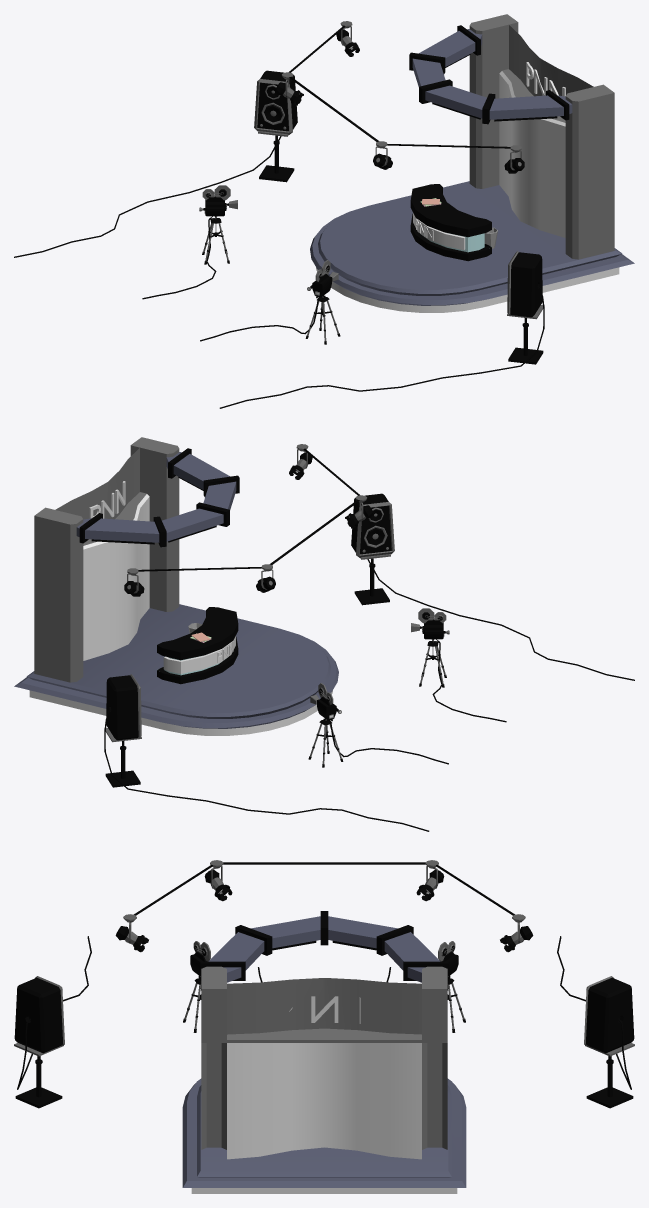
The model's file is Props.fbx.
3 views of the same model, one above another, from view 1: azimuth 30°, elevation 25°; view 2: azimuth 150°, elevation 25°; view 3: azimuth 270°, elevation 25° (orthographic). The views are drawn at different scales.
Visible parts, largest first — view 1: Podest Emission, Plane.007, TVScreen, Lights, Speaker grey parts, Desk, Speaker_base, Camera, camera_cable.001, Circle, Reflector, Reflector.001 (+1 smaller); view 2: Podest Emission, Plane.007, TVScreen, Lights, Speaker grey parts, Desk, Speaker_base, Camera, camera_cable.001, Circle, Reflector, Reflector.001 (+1 smaller); view 3: TVScreen, Plane.007, Podest Emission, Lights, Speaker grey parts, Speaker_base, Reflector, Reflector.001, Camera, camera_cable.001, cable_up, Circle (+1 smaller).
Boxes of the visible parts, x1,y1,x2,y2 form: Podest Emission: [310, 181, 634, 312]; Plane.007: [469, 14, 614, 259]; TVScreen: [499, 74, 565, 237]; Lights: [409, 25, 572, 124]; Speaker grey parts: [254, 70, 542, 317]; Desk: [410, 184, 491, 261]; Speaker_base: [258, 131, 544, 364]; Camera: [199, 185, 338, 297]; camera_cable.001: [14, 136, 544, 408]; Circle: [202, 216, 340, 344]; Reflector: [275, 72, 392, 169]; Reflector.001: [336, 21, 524, 173]; Podest Emission: [14, 604, 338, 735]; Plane.007: [34, 437, 179, 682]; TVScreen: [83, 497, 149, 660]; Lights: [76, 448, 239, 547]; Speaker grey parts: [106, 493, 394, 740]; Desk: [157, 607, 238, 684]; Speaker_base: [104, 554, 390, 787]; Camera: [310, 608, 449, 720]; camera_cable.001: [104, 559, 634, 831]; Circle: [308, 639, 446, 767]; Reflector: [256, 495, 373, 592]; Reflector.001: [124, 444, 312, 596]; TVScreen: [227, 1043, 421, 1159]; Plane.007: [201, 966, 447, 1149]; Podest Emission: [182, 1078, 466, 1193]; Lights: [200, 911, 448, 982]; Speaker grey parts: [14, 976, 634, 1053]; Speaker_base: [14, 1043, 634, 1108]; Reflector: [204, 860, 444, 901]; Reflector.001: [115, 914, 533, 952]; Camera: [190, 941, 458, 975]; camera_cable.001: [17, 936, 631, 1089]; cable_up: [223, 862, 425, 864]; Circle: [183, 977, 465, 1032].
Bounding box in the file's own units: 2277 × 851 × 2342.
